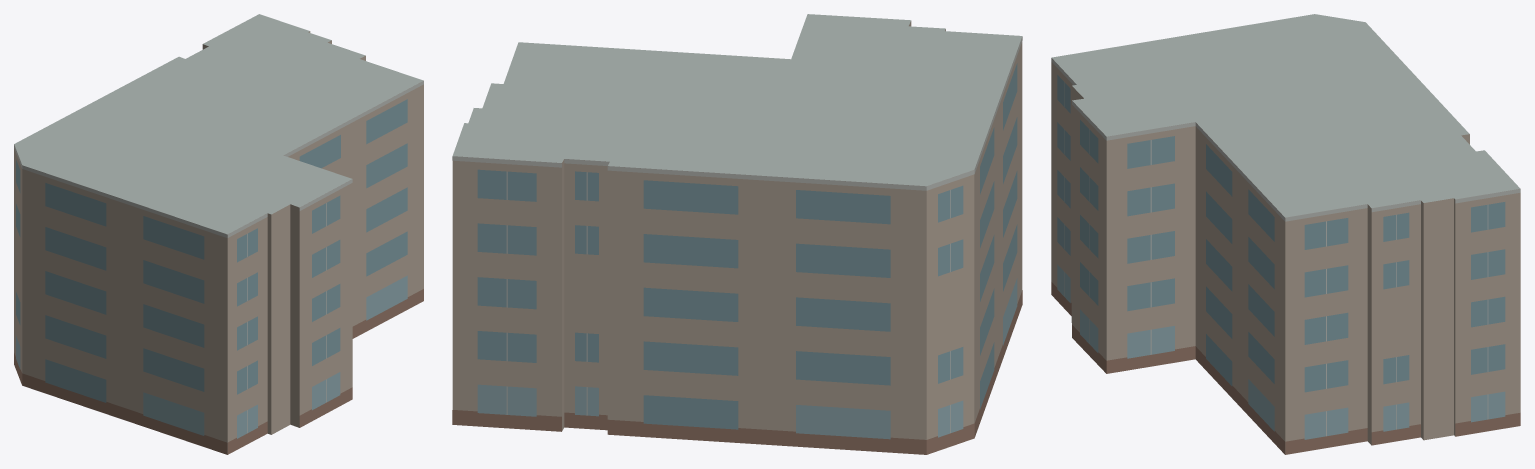
The model's file is survey-upis-32895518.glb.
The picture shows the model from 3 angles, left to right: view 1: azimuth 30°, elevation 25°; view 2: azimuth 150°, elevation 25°; view 3: azimuth 270°, elevation 25°; orthographic projection. The views are drawn at different scales.
Visible parts, largest first — view 1: survey-upis-32895518.tmp; view 2: survey-upis-32895518.tmp; view 3: survey-upis-32895518.tmp.
Part boxes in pixels (x1=…): survey-upis-32895518.tmp: x1=14, y1=14, x2=423, y2=454; survey-upis-32895518.tmp: x1=452, y1=14, x2=1022, y2=454; survey-upis-32895518.tmp: x1=1051, y1=14, x2=1520, y2=454.
Size of the model in its own units: 26.53 by 14.4 by 25.82.
